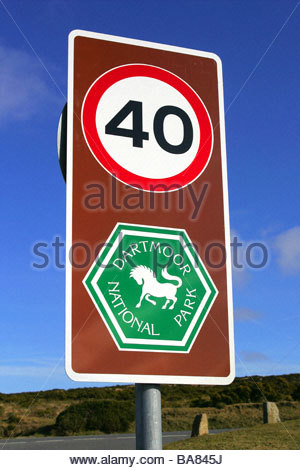Speed_limit_40km: (81, 61, 214, 192)
